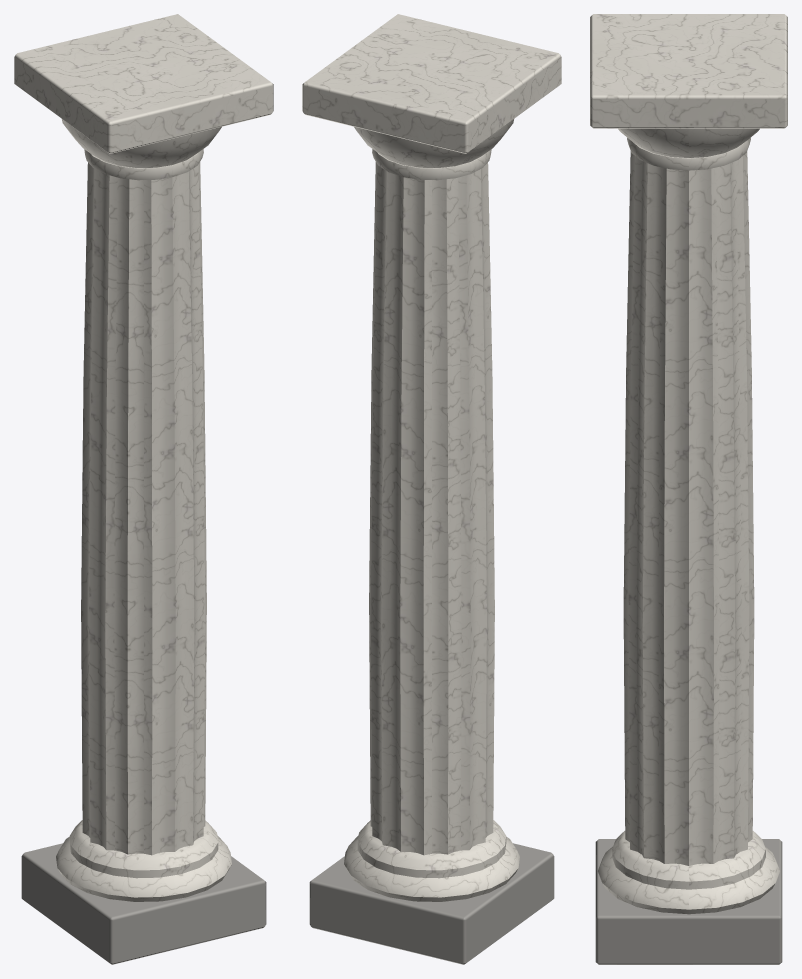
The model's file is column.glb.
3 views of the same model, side by side, from view 1: azimuth 30°, elevation 25°; view 2: azimuth 150°, elevation 25°; view 3: azimuth 270°, elevation 25° (orthographic). The views are drawn at different scales.
Visible parts, largest first — view 1: Column_Intact; view 2: Column_Intact; view 3: Column_Intact.
Boxes of the visible parts, x1,y1,x2,y2 form: Column_Intact: [14, 14, 273, 964]; Column_Intact: [302, 14, 561, 964]; Column_Intact: [590, 14, 787, 964].
Size of the model in its own units: 1.8 by 8.76 by 1.8.
2 materials, 1 textured.
